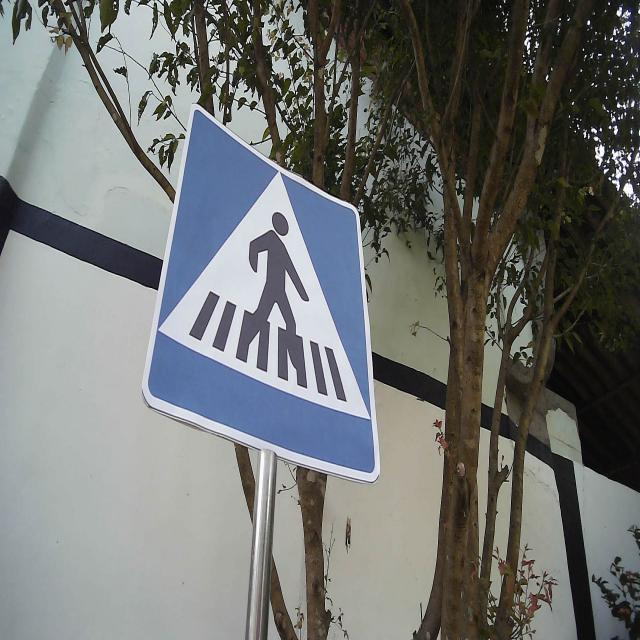crosswalk_sign: (138, 101, 383, 488)
